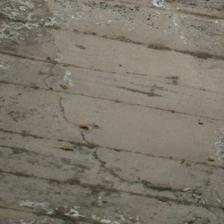Crack: (61, 105, 200, 196)
